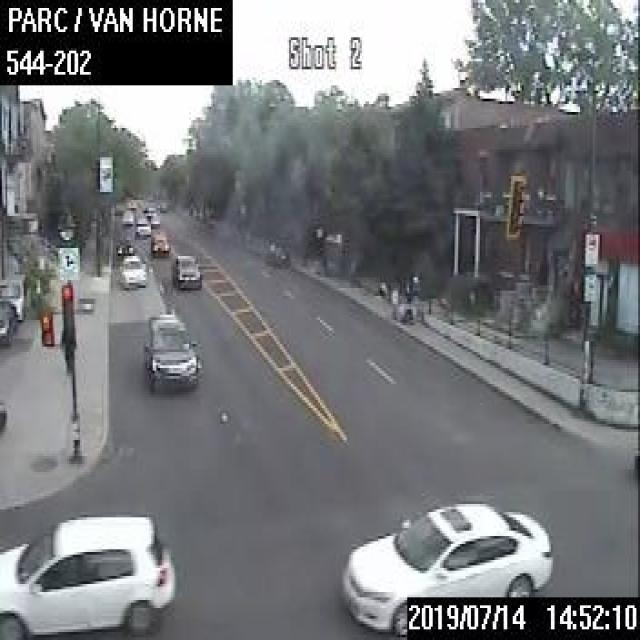vehicle: (338, 499, 555, 637), (0, 509, 176, 637), (142, 310, 199, 388), (0, 269, 27, 319), (170, 251, 202, 285), (116, 254, 146, 285), (0, 297, 16, 345), (263, 240, 289, 264), (150, 231, 169, 254), (115, 234, 134, 255), (134, 216, 150, 234), (120, 208, 132, 223), (149, 213, 159, 225)
